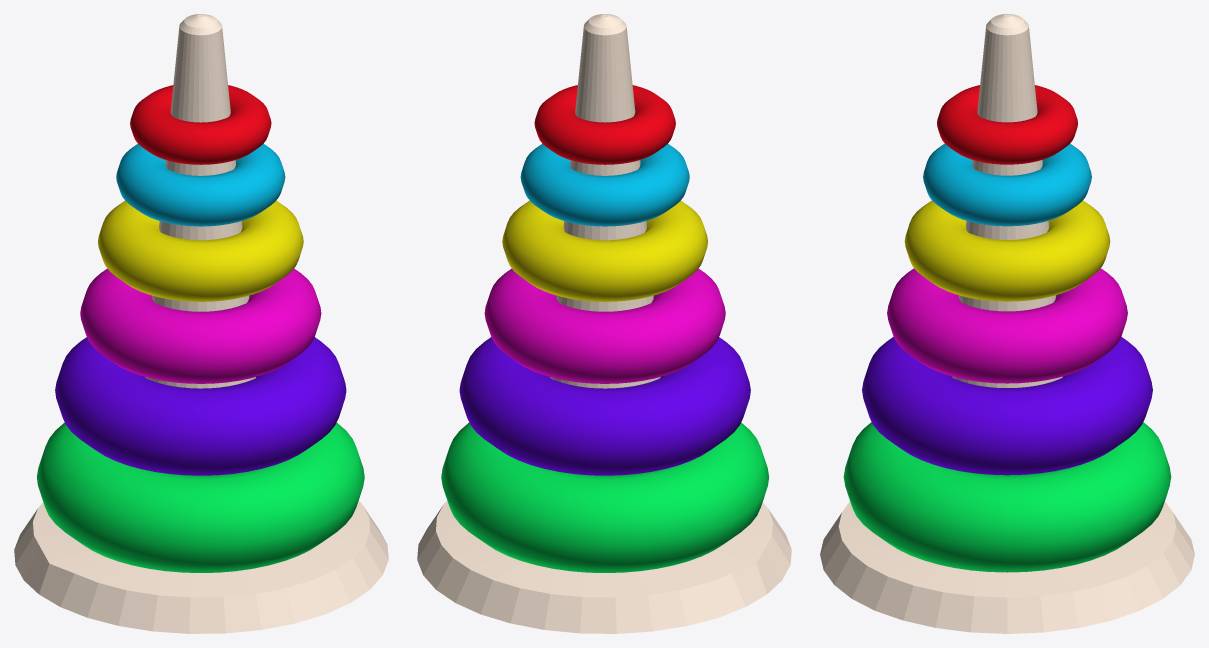
The picture shows the model from 3 angles, left to right: view 1: azimuth 30°, elevation 25°; view 2: azimuth 150°, elevation 25°; view 3: azimuth 270°, elevation 25°; orthographic projection.
Visible parts, largest first — view 1: BezierCircle_0, Cylinder_2; view 2: BezierCircle_0, Cylinder_2; view 3: BezierCircle_0, Cylinder_2.
Part boxes in pixels (bbox=[...]): BezierCircle_0: bbox=[37, 85, 364, 572]; Cylinder_2: bbox=[14, 14, 388, 633]; BezierCircle_0: bbox=[441, 85, 768, 572]; Cylinder_2: bbox=[417, 14, 791, 633]; BezierCircle_0: bbox=[843, 85, 1171, 572]; Cylinder_2: bbox=[820, 14, 1194, 633].
Size of the model in its own units: 1.73 by 2.74 by 1.73.
